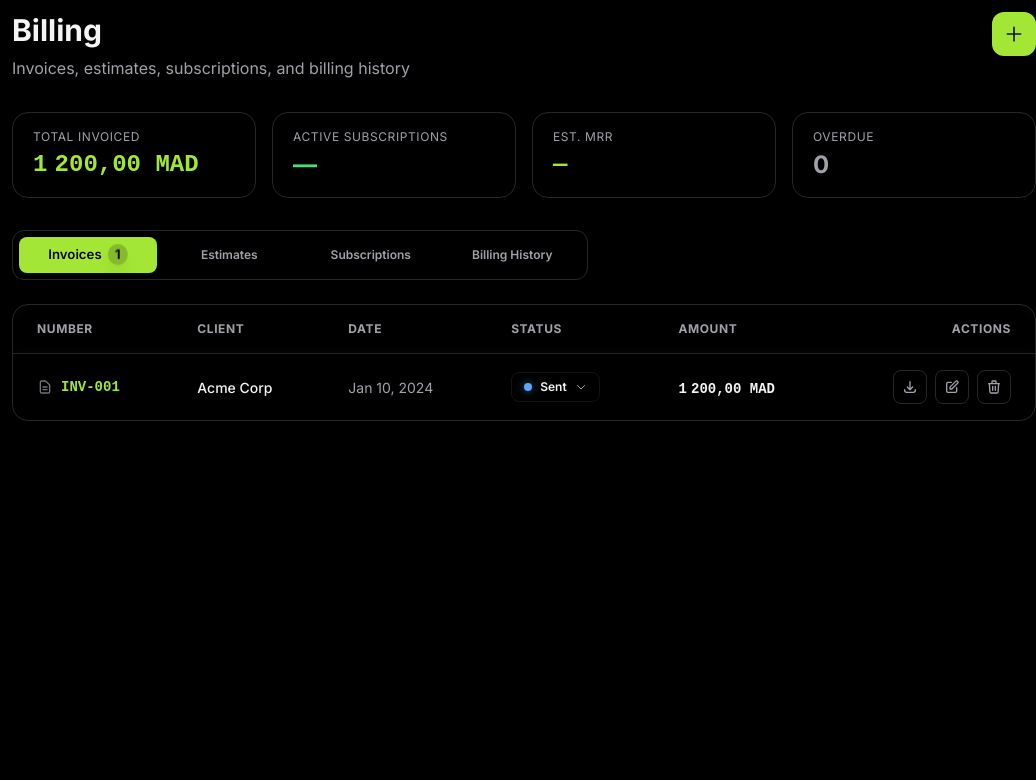
Test case: BillingPage › shows empty state on estimates tab when no estimates
Click the button "Estimates" at (229, 255), box [160,237,298,273]
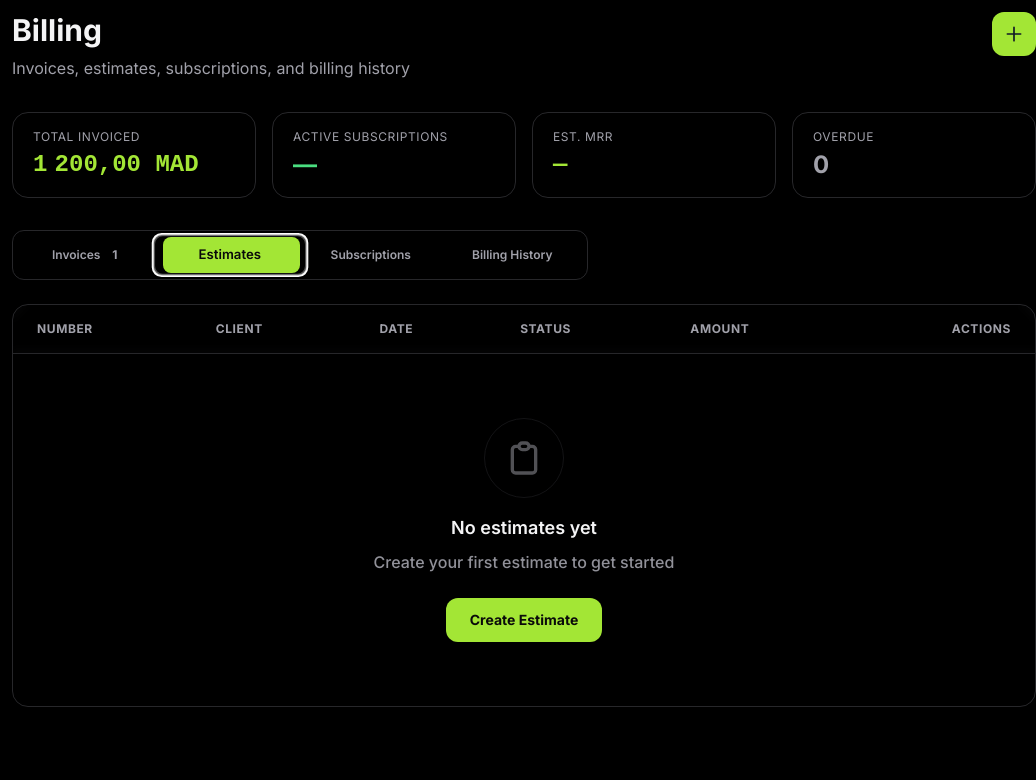
Now the text "Create your first estimate to get started" is shown, box [374,552,674,572]
